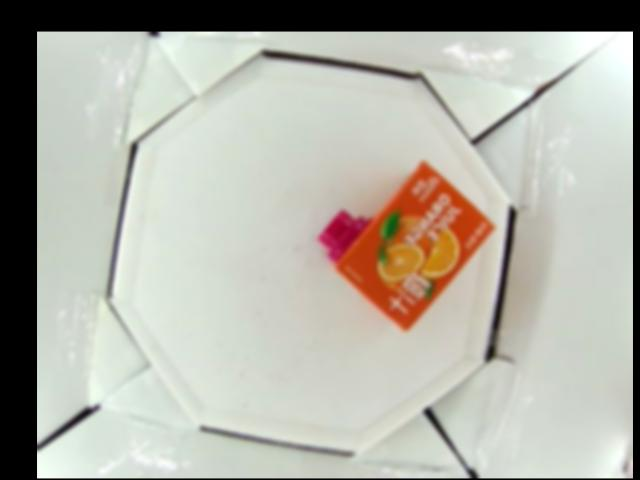Bottle: (316, 158, 497, 335)
